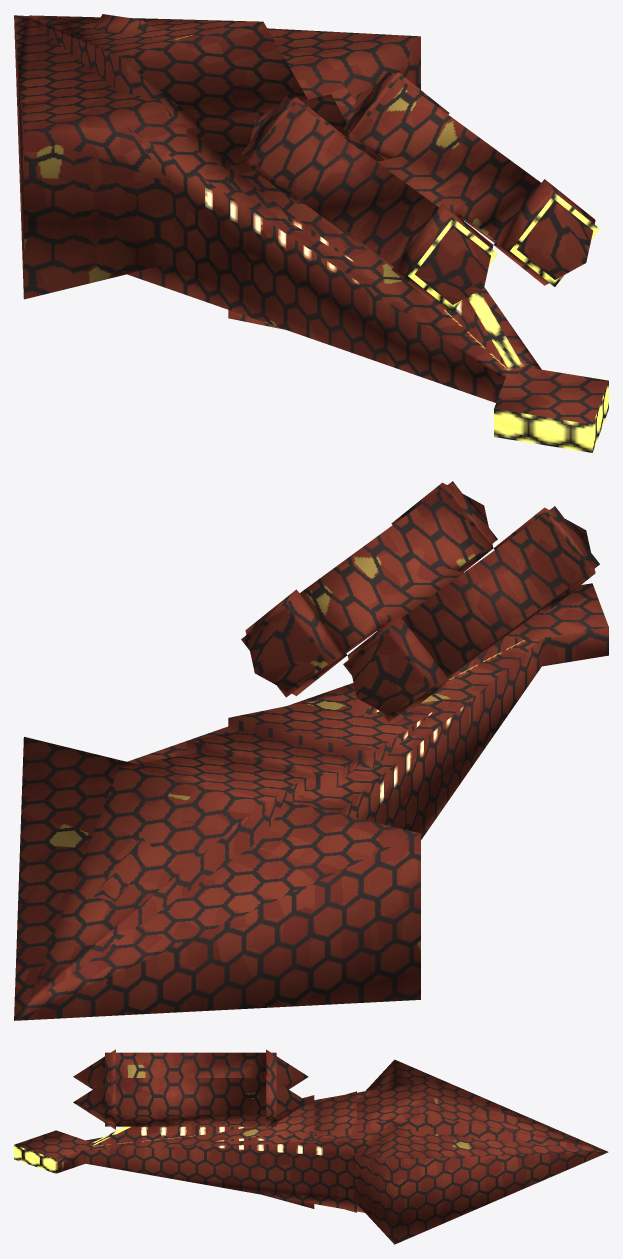
Rendered from zandrax_heavy_cruiser.glb.
3 renders of one model, top to bottom at view 1: azimuth 30°, elevation 25°; view 2: azimuth 150°, elevation 25°; view 3: azimuth 270°, elevation 25°, orthographic. The views are drawn at different scales.
Parts seen in each view (by area): view 1: ZandraxHeavyCruiser; view 2: ZandraxHeavyCruiser; view 3: ZandraxHeavyCruiser.
Part boxes in pixels (bbox=[...]): ZandraxHeavyCruiser: bbox=[14, 14, 608, 452]; ZandraxHeavyCruiser: bbox=[14, 481, 608, 1020]; ZandraxHeavyCruiser: bbox=[14, 1049, 608, 1244].
Size of the model in its own units: 22 by 13.66 by 55.5.
1 material, 1 textured.
